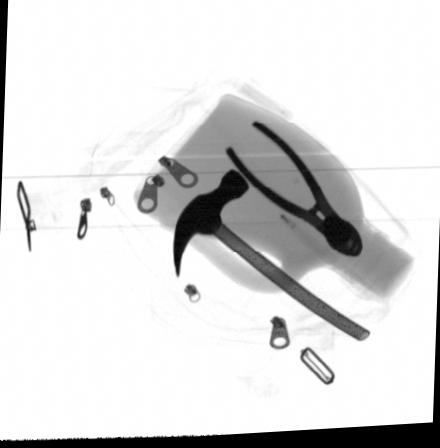Hammer: (172, 172, 369, 345)
Pliers: (224, 124, 363, 261)
